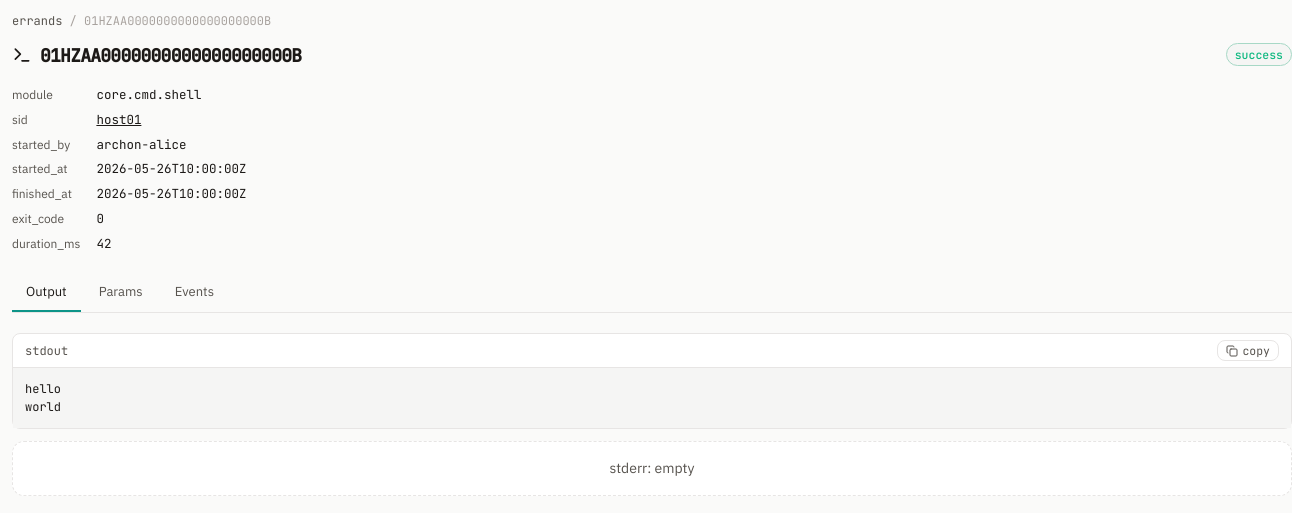
Test: ErrandDetail › Events tab shows started/finished
Check: the text "hello world" is shown, box x1=13 y1=368 x2=1291 y2=428
Click the tab "Events": [194, 293] box x1=161 y1=273 x2=228 y2=312
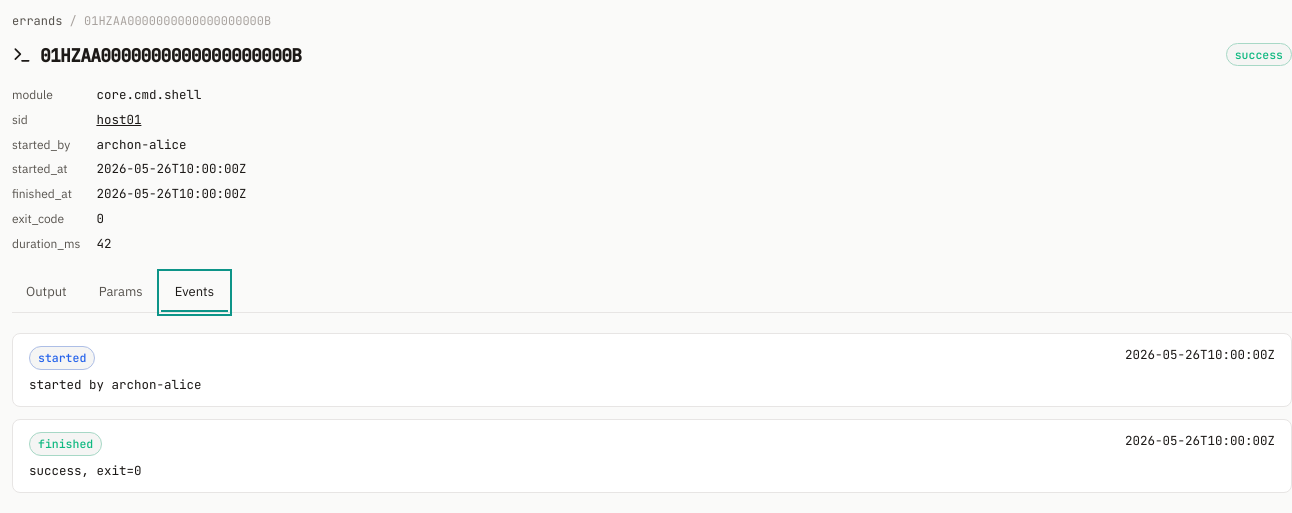
Check: the text "started" is shown, box x1=29 y1=346 x2=95 y2=370
Check: the text "finished" is shown, box x1=29 y1=432 x2=102 y2=456
